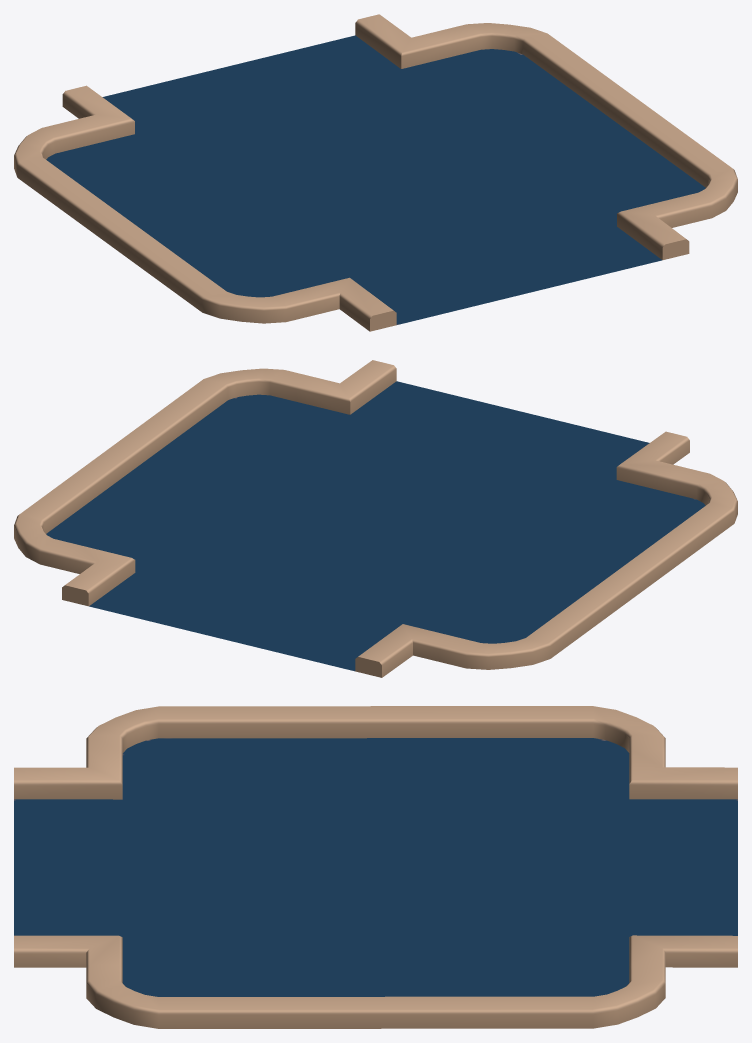
File: PokemonMonster_Landing_RoadQuad.fbx
The picture shows the model from 3 angles, top to bottom: view 1: azimuth 30°, elevation 25°; view 2: azimuth 150°, elevation 25°; view 3: azimuth 270°, elevation 25°; orthographic projection. The views are drawn at different scales.
Visible parts, largest first — view 1: Road_Quad; view 2: Road_Quad; view 3: Road_Quad.
Part boxes in pixels (box(x1,y1,x2,y2)): Road_Quad: box(14, 14, 737, 331); Road_Quad: box(14, 360, 737, 677); Road_Quad: box(14, 706, 737, 1028).
Size of the model in its own units: 1001 by 27.5 by 1000.
1 material, 1 textured.
